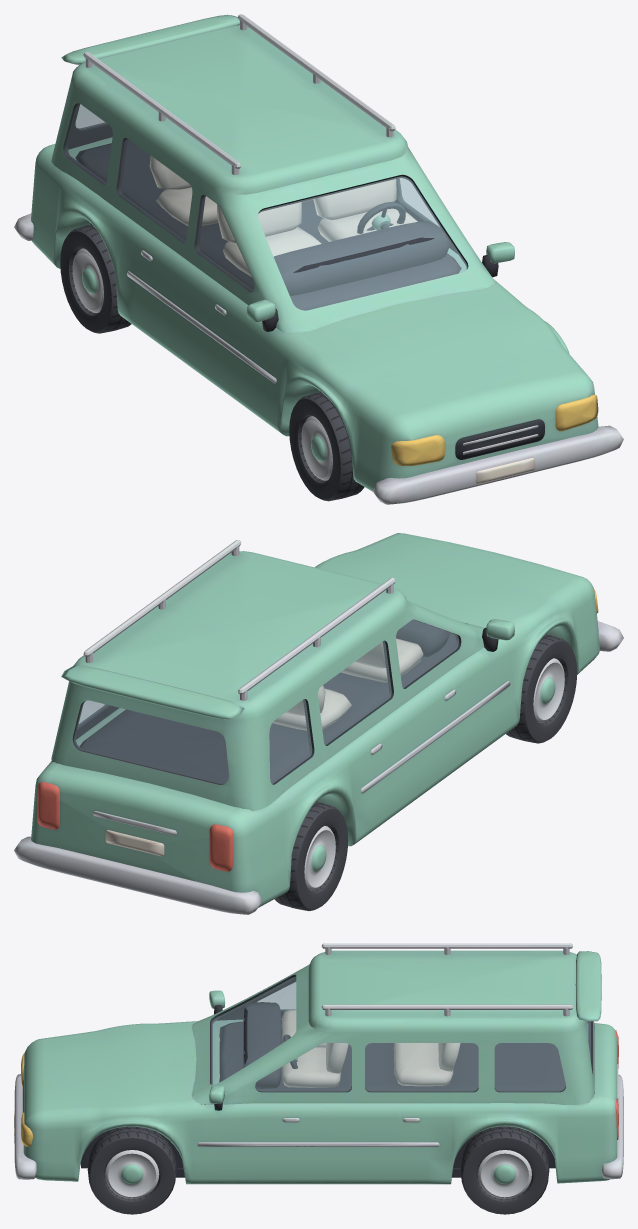
File: station-wagon.glb
3 views of the same model, one above another, from view 1: azimuth 30°, elevation 25°; view 2: azimuth 150°, elevation 25°; view 3: azimuth 270°, elevation 25° (orthographic). The views are drawn at different scales.
Visible parts, largest first — view 1: station-wagon_body, station-wagon_windows, station-wagon_wheel_fr, station-wagon_wheel_rr; view 2: station-wagon_body, station-wagon_windows, station-wagon_wheel_rr, station-wagon_wheel_fr; view 3: station-wagon_body, station-wagon_windows, station-wagon_wheel_rl, station-wagon_wheel_fl.
Part boxes in pixels (bbox=[...]): station-wagon_body: bbox=[14, 14, 623, 504]; station-wagon_windows: bbox=[65, 103, 467, 310]; station-wagon_wheel_fr: bbox=[289, 392, 364, 501]; station-wagon_wheel_rr: bbox=[60, 224, 131, 333]; station-wagon_body: bbox=[14, 533, 623, 914]; station-wagon_windows: bbox=[74, 620, 458, 783]; station-wagon_wheel_rr: bbox=[274, 802, 348, 910]; station-wagon_wheel_fr: bbox=[506, 634, 577, 743]; station-wagon_body: bbox=[14, 943, 623, 1184]; station-wagon_windows: bbox=[211, 977, 590, 1091]; station-wagon_wheel_rl: bbox=[460, 1126, 549, 1214]; station-wagon_wheel_fl: bbox=[87, 1126, 176, 1214].
Size of the model in its own units: 1.9 by 1.65 by 4.66.
Materials: 6 (2 with a texture image).
